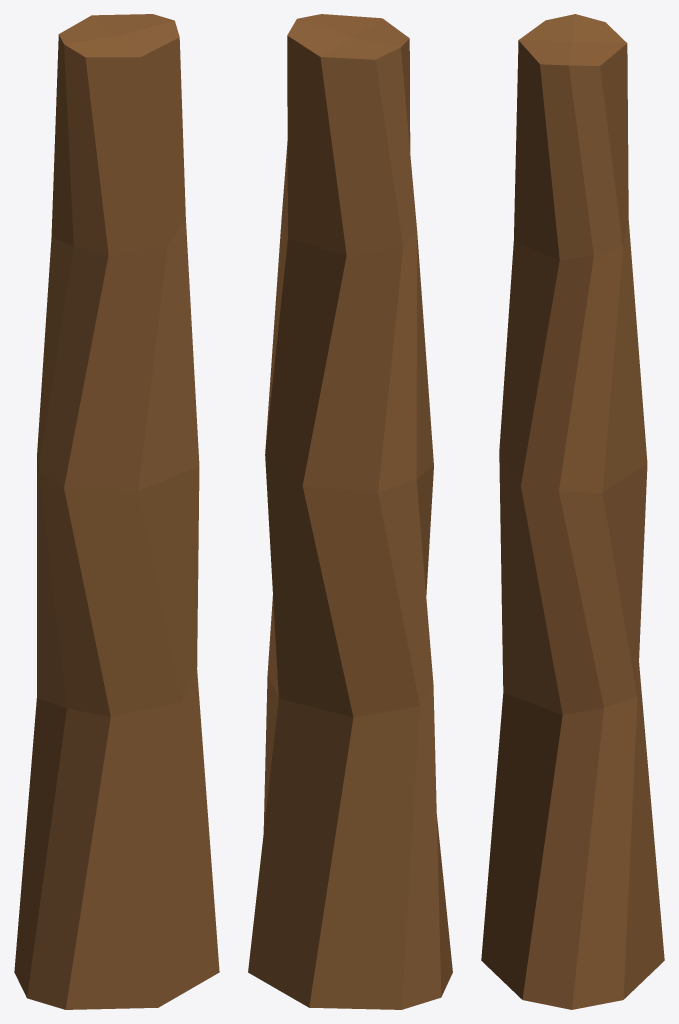
The model's file is liegenderStamm lang.fbx.
3 renders of one model, left to right at view 1: azimuth 30°, elevation 25°; view 2: azimuth 150°, elevation 25°; view 3: azimuth 270°, elevation 25°, orthographic.
Parts seen in each view (by area): view 1: Stammi; view 2: Stammi; view 3: Stammi.
Part boxes in pixels (x1,y1,x2,y2): Stammi: (14,14,219,1009); Stammi: (248,14,452,1009); Stammi: (481,14,664,1009).
Size of the model in its own units: 108 by 539 by 96.56.
